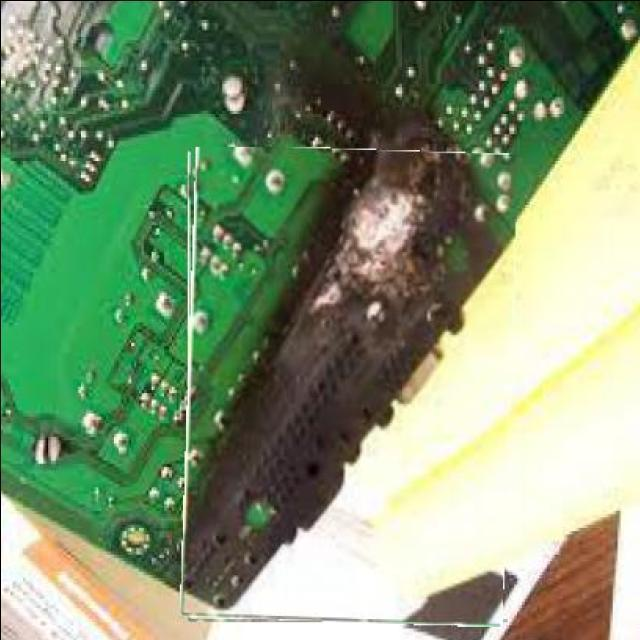Burn: (182, 146, 512, 624)
